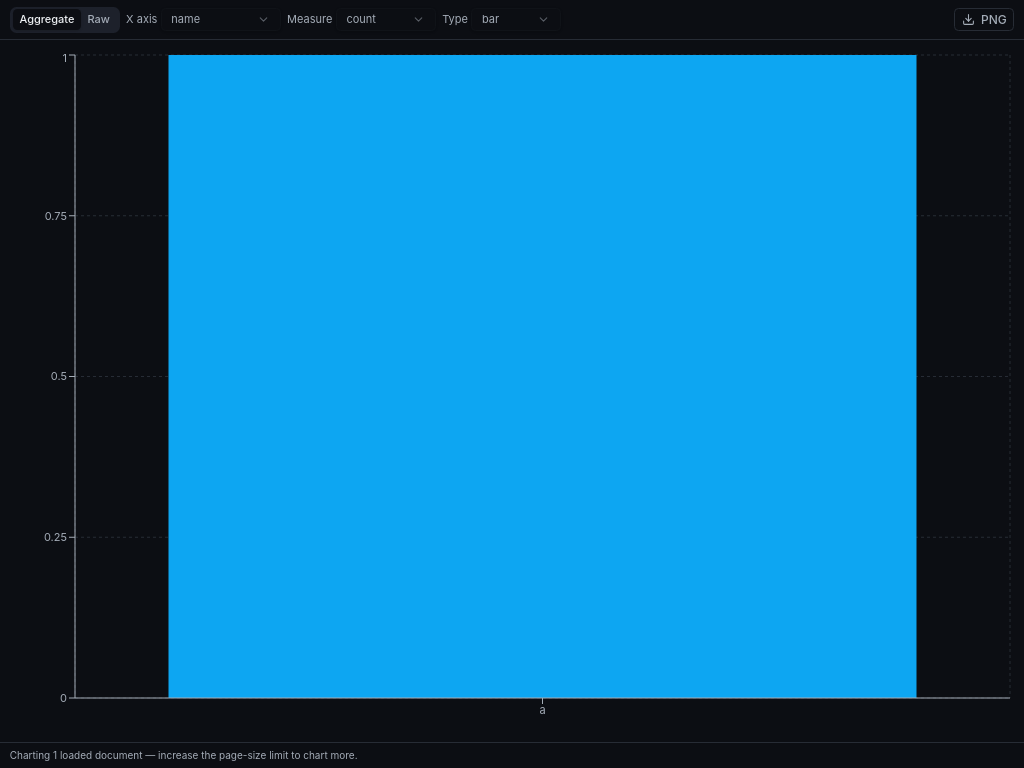
ChartView › in Raw mode with no numeric field selected, prompts for a numeric field
Click the tab "Raw".
click(99, 20)  # box [81,9,116,30]
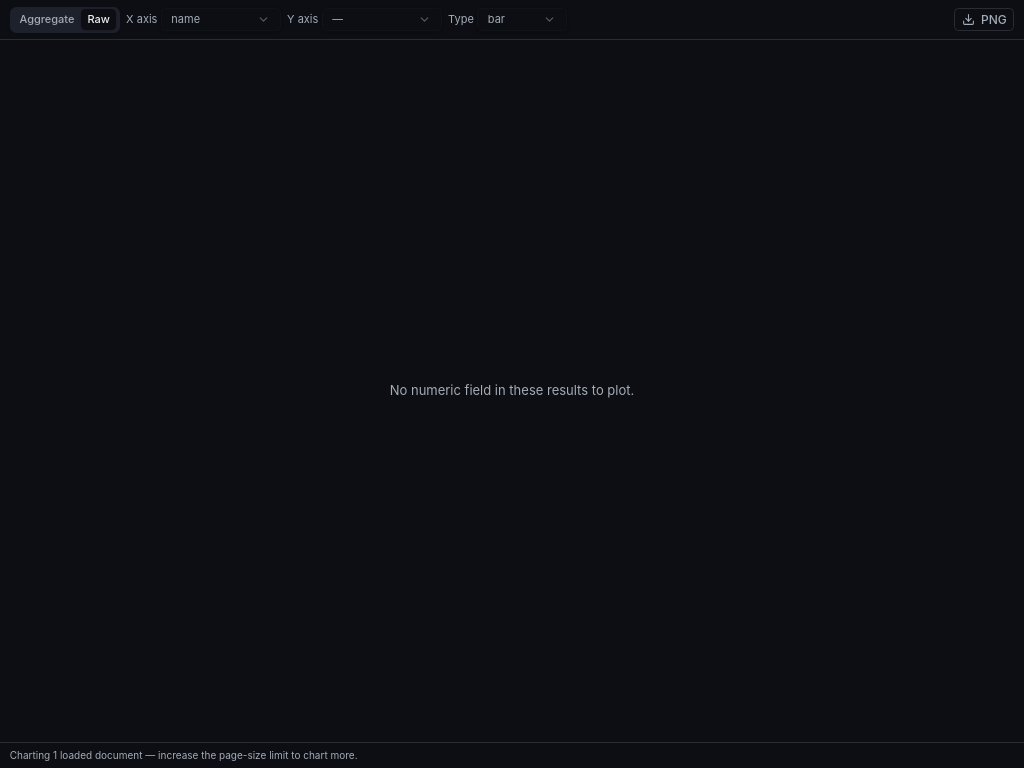
Expected: the text "No numeric field in these results to plot." is shown, [390,382,634,398]
